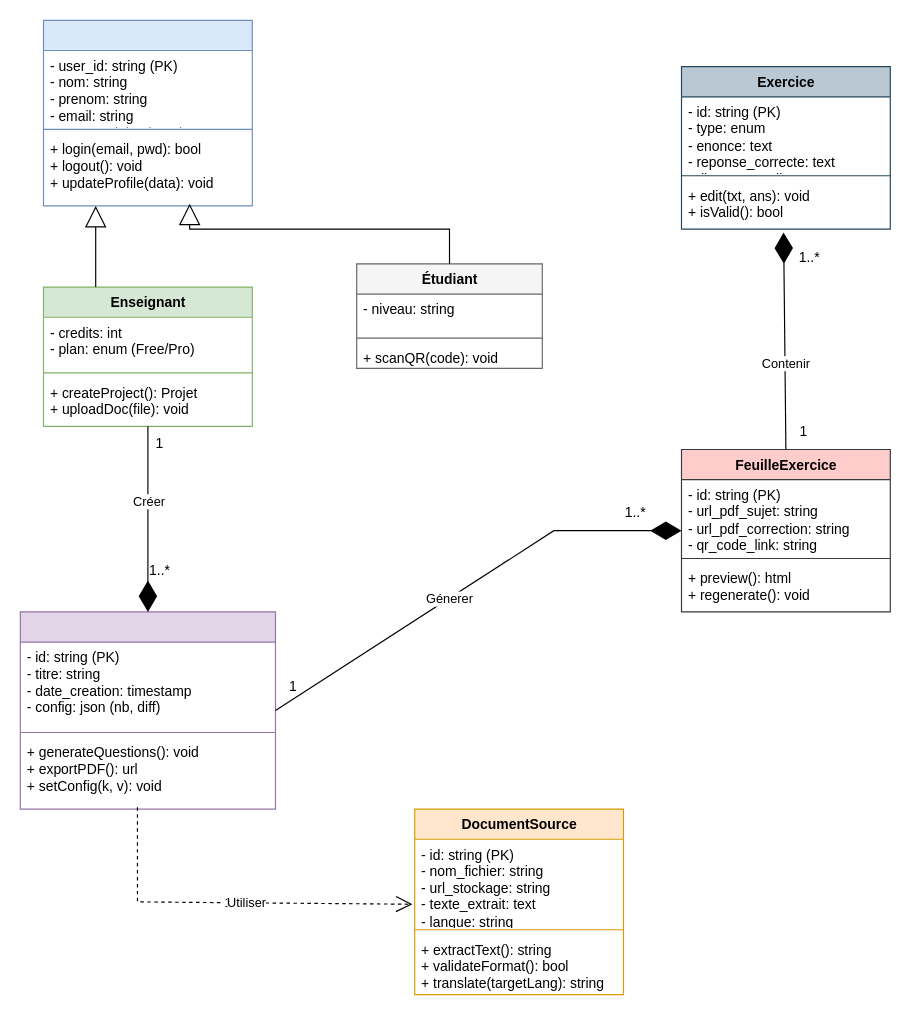
The diagram is 911 pixels wide and 1018 high, and some of its shapes have lost their labels. The box of each missing label's shape, as (x1, y1, x2, y2) in pixels:
Projet (Session): (19, 611, 276, 809)
Utilisateur: (42, 19, 252, 206)
